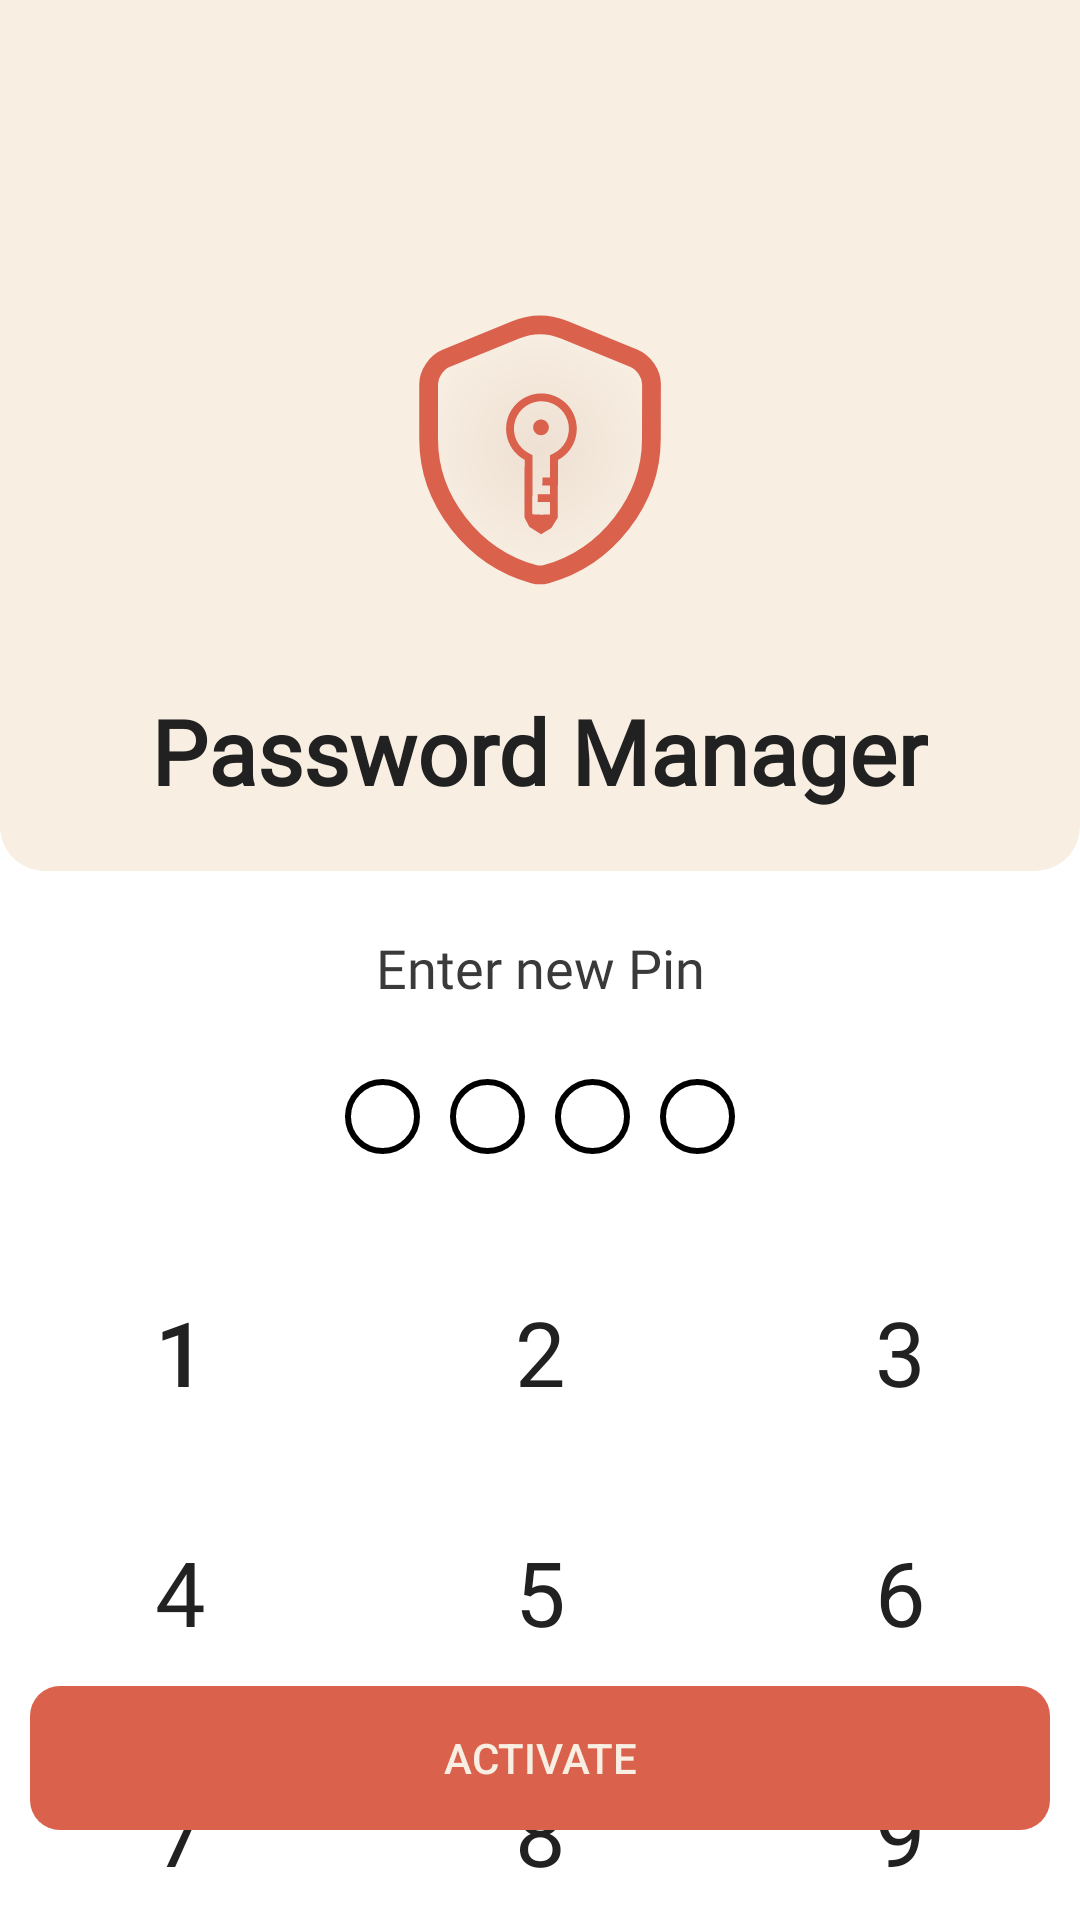

Named icons in this screenshot (1080px x 1920px) and their centers, (x=x, y=y):
pin dot not: (x=382, y=1116), (x=487, y=1116), (x=592, y=1116), (x=697, y=1116)
